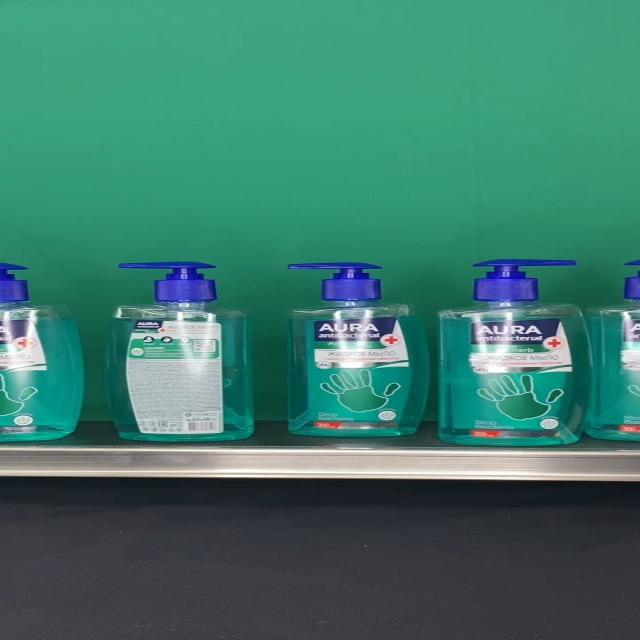Bottle: (436, 256, 594, 446), (106, 262, 253, 440), (285, 261, 430, 437)
Cap: (472, 256, 579, 302), (117, 261, 216, 303), (286, 261, 382, 301)
